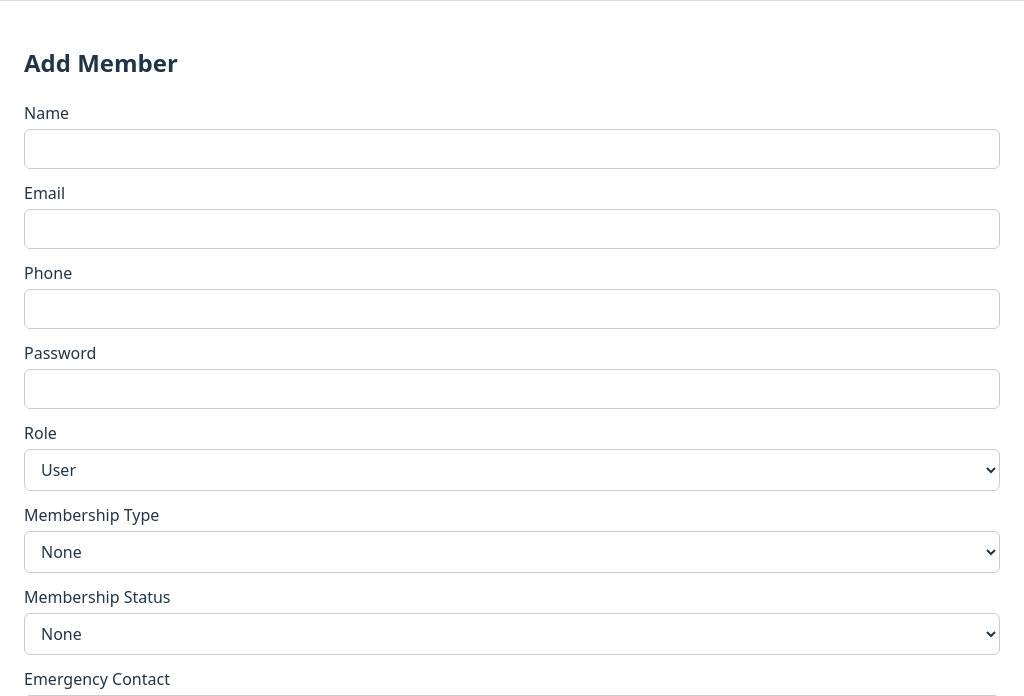
Test: AddMemberPage › submits form and navigates to member detail
Type "New User" into the field labelled "Name" at coordinates (512, 149), box [24,129,1000,169]
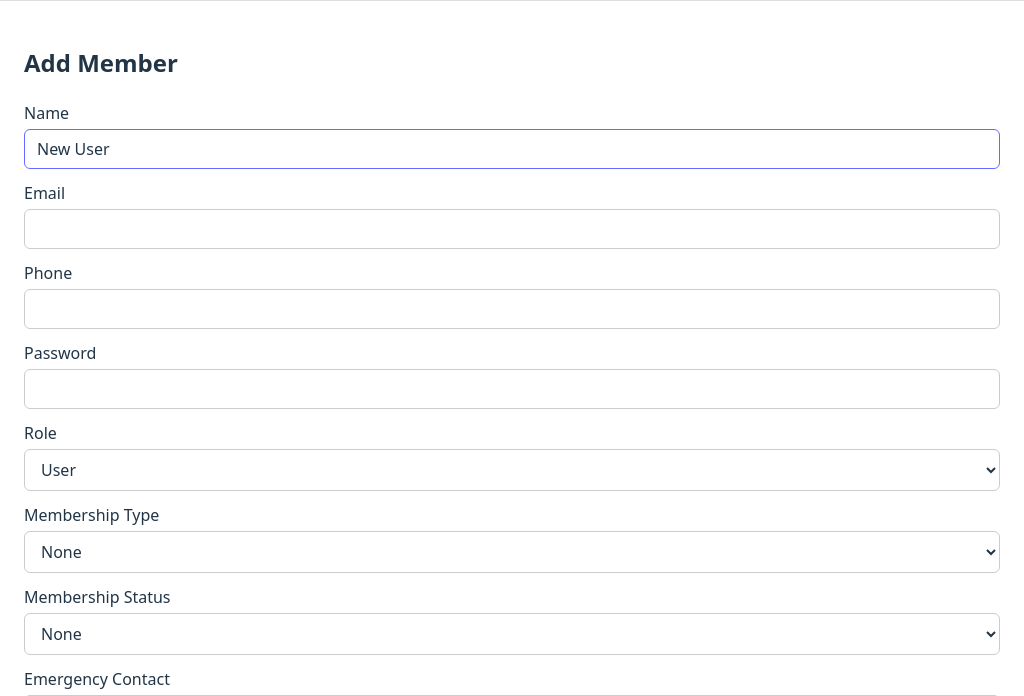
Type "new@test.com" into the field labelled "Email" at coordinates (512, 229), box [24,209,1000,249]
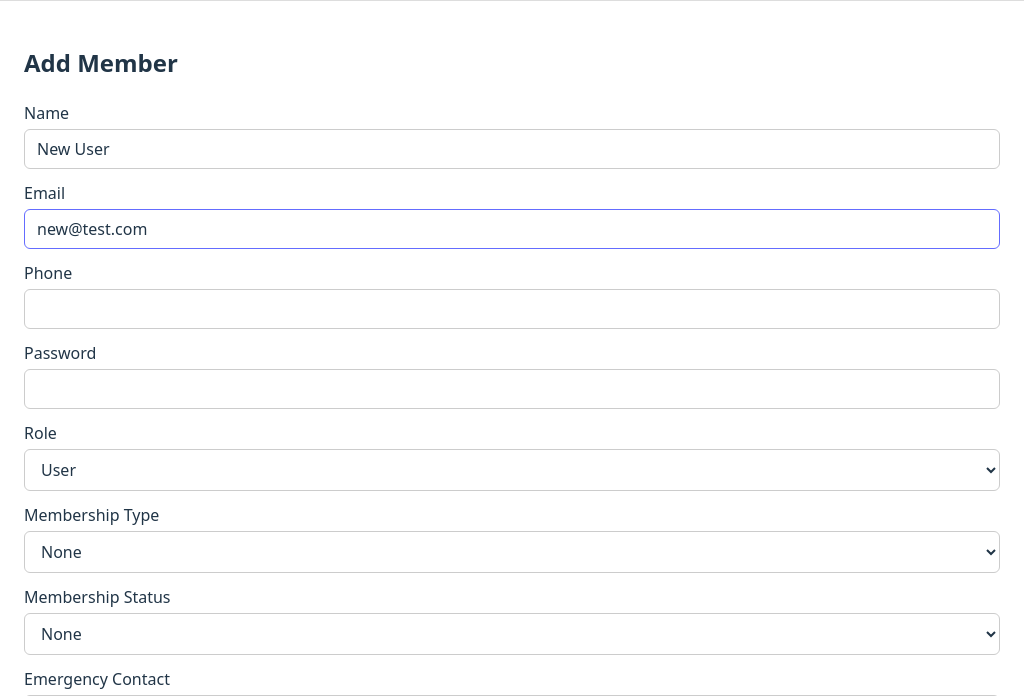
Type "555-0500" into the field labelled "Phone" at coordinates (512, 309), box [24,289,1000,329]
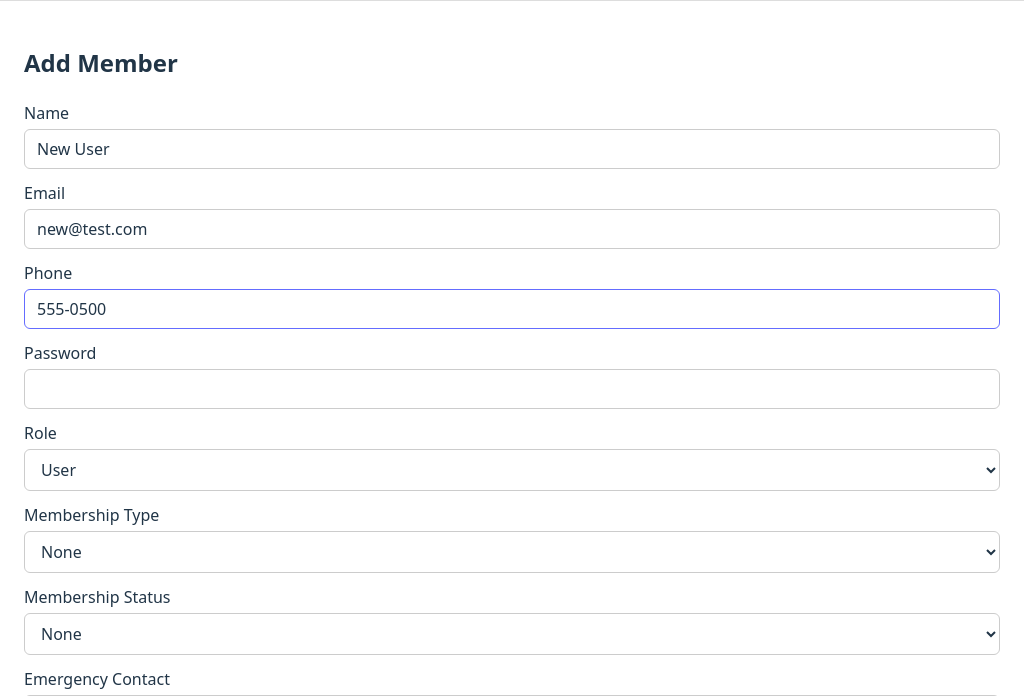
Type "password123" into the password field labelled "Password" at coordinates (512, 389), box [24,369,1000,409]
(page scrolled)
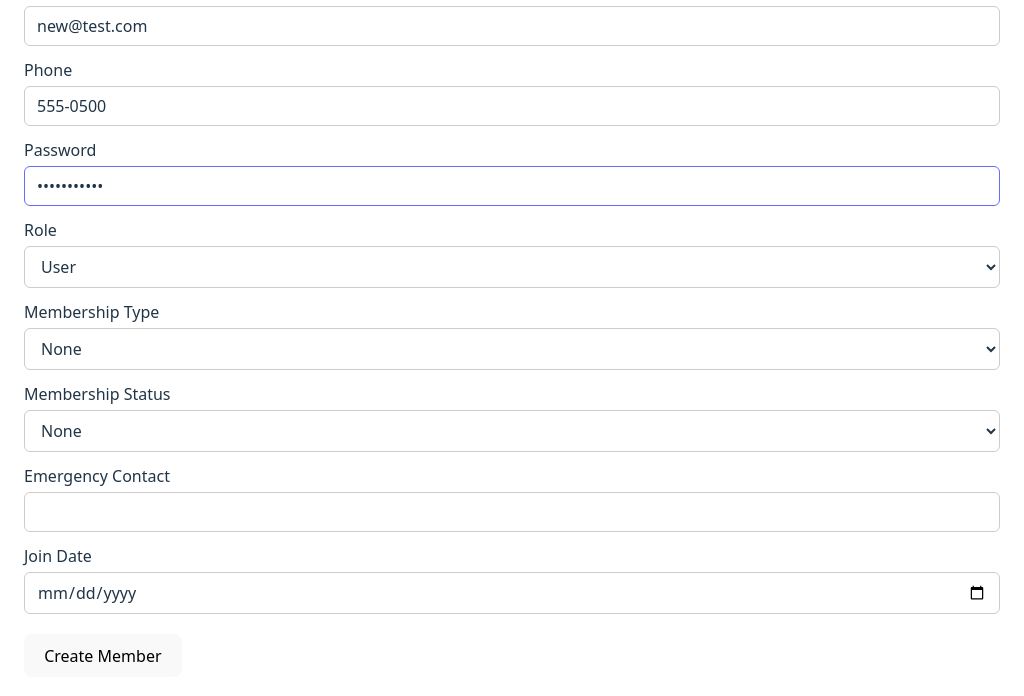
Click the button "Create Member" at coordinates (103, 656), box [24,634,182,677]
(page scrolled)
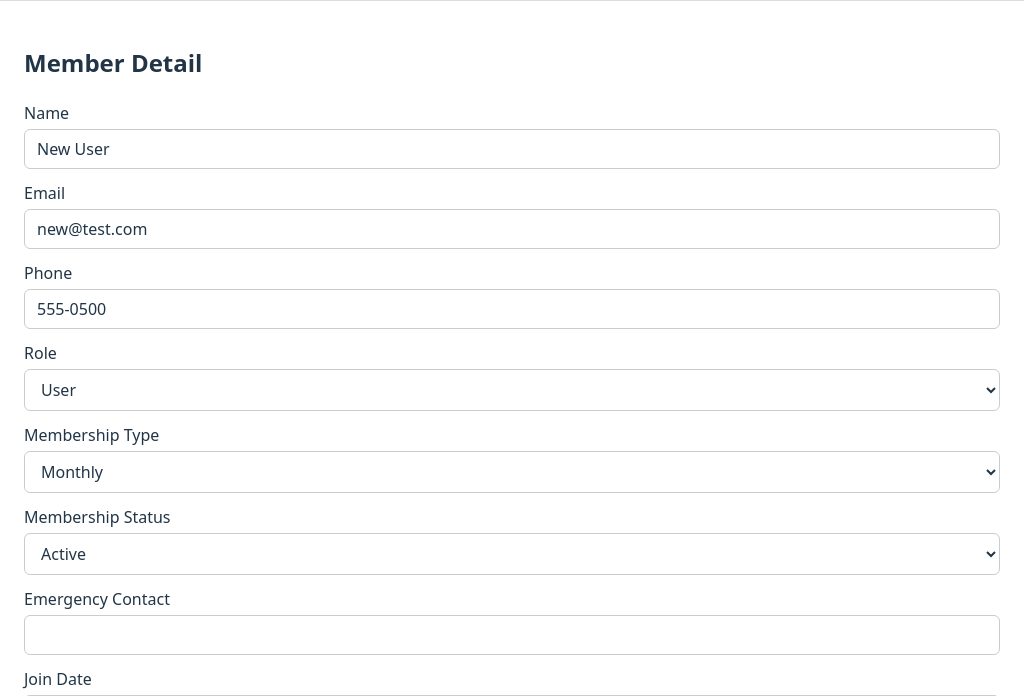
Expected: the heading "Member Detail" is shown, [24,46,202,79]
